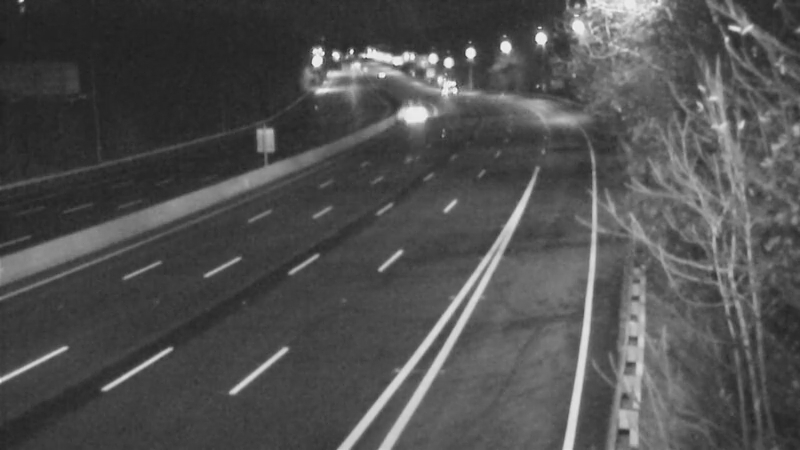vehicle: (357, 50, 407, 100), (417, 61, 467, 111), (389, 90, 439, 140)
